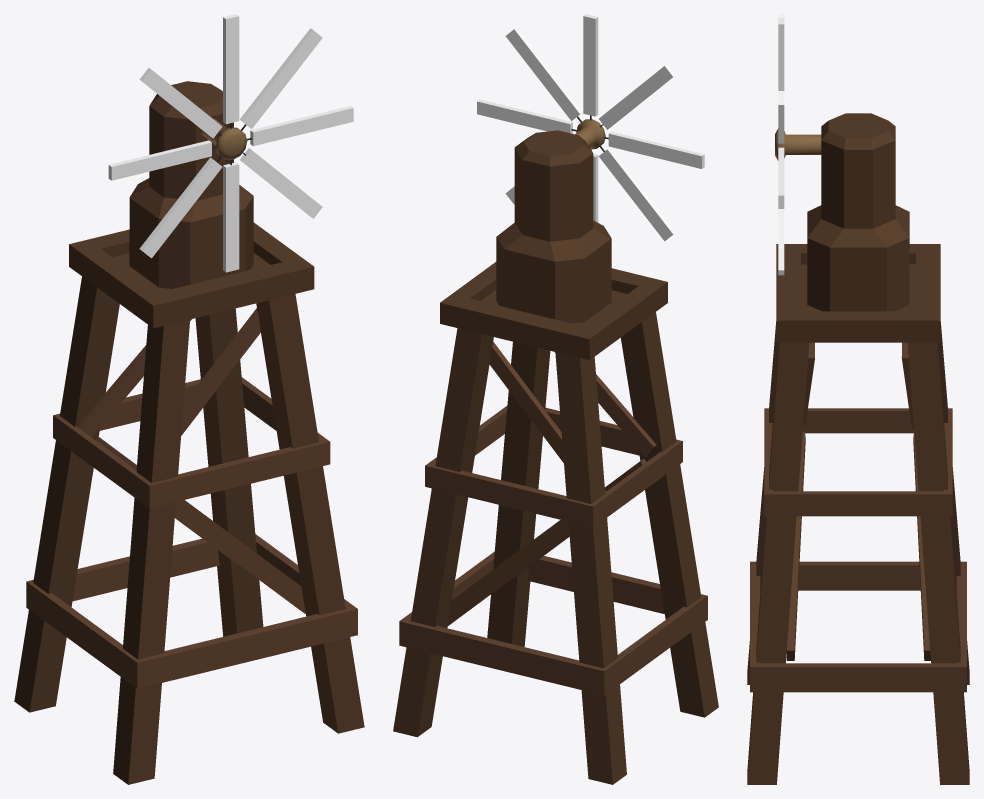
File: Windmill_2.fbx
The picture shows the model from 3 angles, left to right: view 1: azimuth 30°, elevation 25°; view 2: azimuth 150°, elevation 25°; view 3: azimuth 270°, elevation 25°; orthographic projection. The views are drawn at different scales.
Visible parts, largest first — view 1: Windmill_2; view 2: Windmill_2; view 3: Windmill_2.
Part boxes in pixels (x1,y1,x2,y2): Windmill_2: (14,14,364,784); Windmill_2: (393,14,718,784); Windmill_2: (747,14,969,784).
Size of the model in its own units: 287 by 824 by 234.
